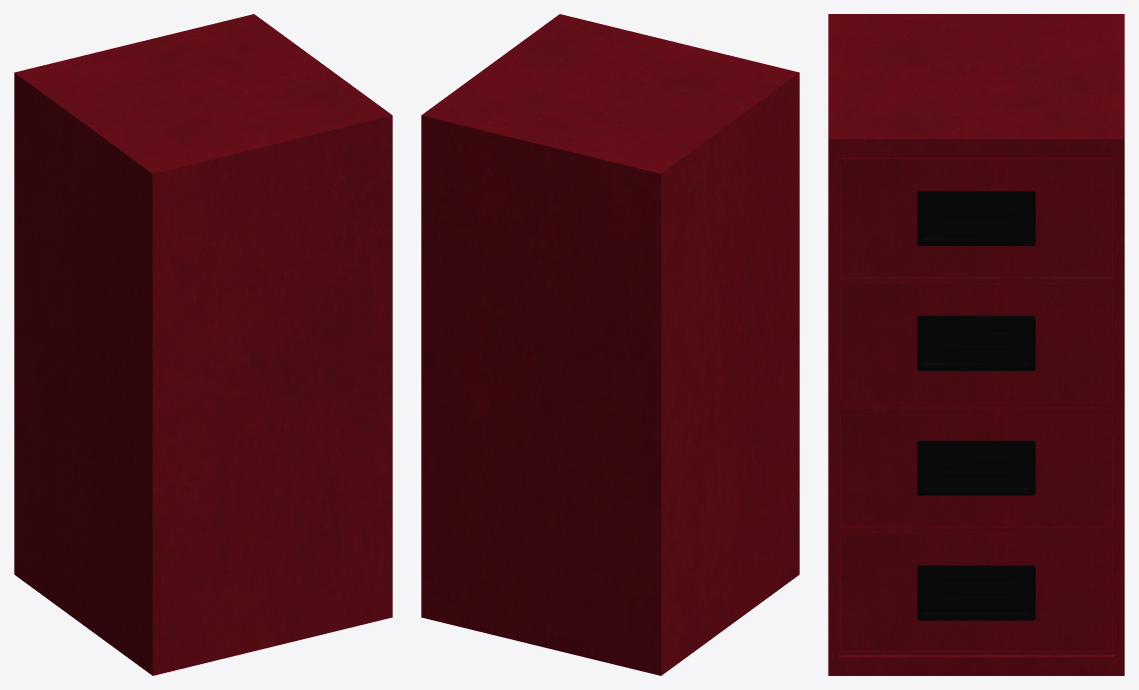
File: red_filing_cabinet.obj
The picture shows the model from 3 angles, left to right: view 1: azimuth 30°, elevation 25°; view 2: azimuth 150°, elevation 25°; view 3: azimuth 270°, elevation 25°; orthographic projection. The views are drawn at different scales.
Parts seen in each view (by area): view 1: red_filing_cabinet; view 2: red_filing_cabinet; view 3: red_filing_cabinet, drawer_2, drawer_1, drawer_4, drawer_3.
Boxes of the visible parts, x1=… form: red_filing_cabinet: x1=14, y1=14, x2=392, y2=675; red_filing_cabinet: x1=421, y1=14, x2=799, y2=675; red_filing_cabinet: x1=828, y1=14, x2=1124, y2=675; drawer_2: x1=840, y1=407, x2=1112, y2=526; drawer_1: x1=840, y1=532, x2=1112, y2=651; drawer_4: x1=840, y1=158, x2=1112, y2=276; drawer_3: x1=840, y1=283, x2=1112, y2=401.
Size of the model in its own units: 0.5 by 1 by 0.5.
